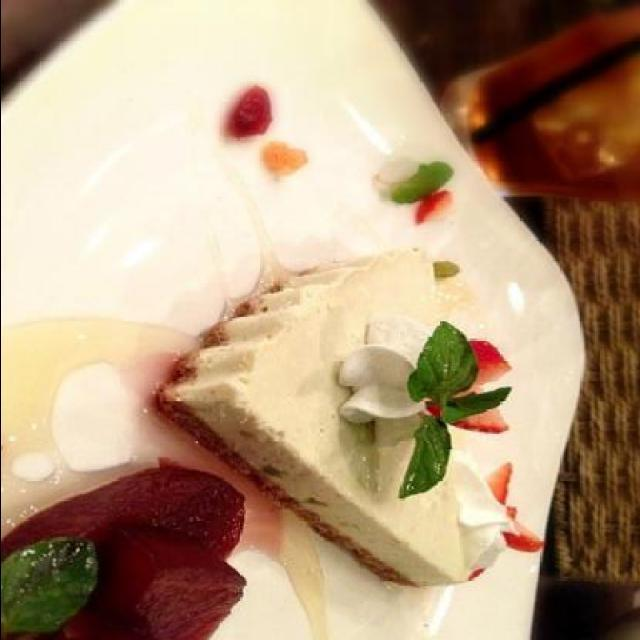Rare cheese cake: (170, 197, 561, 615)
